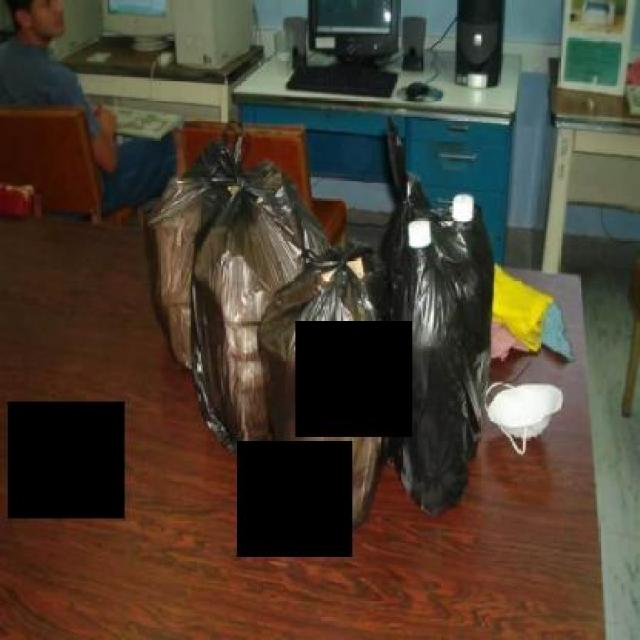plastic bag: (192, 160, 334, 454), (378, 168, 497, 512), (255, 244, 394, 538), (141, 118, 254, 371)
